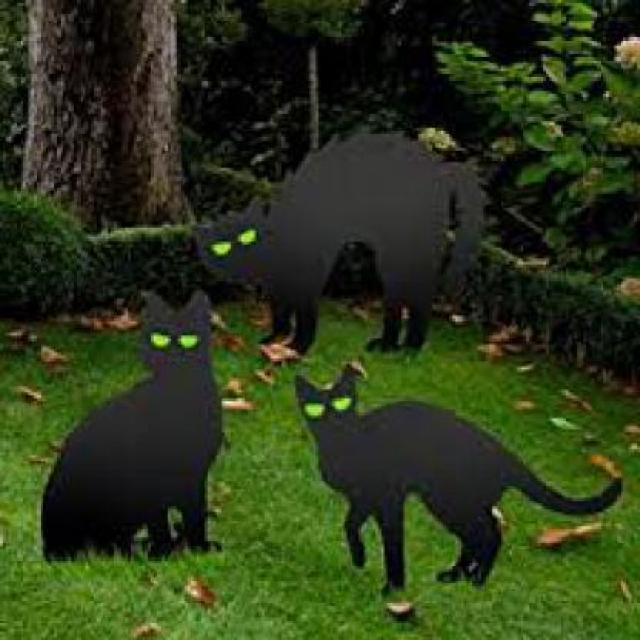animals: (290, 360, 625, 598), (26, 288, 242, 577), (208, 125, 489, 302)
